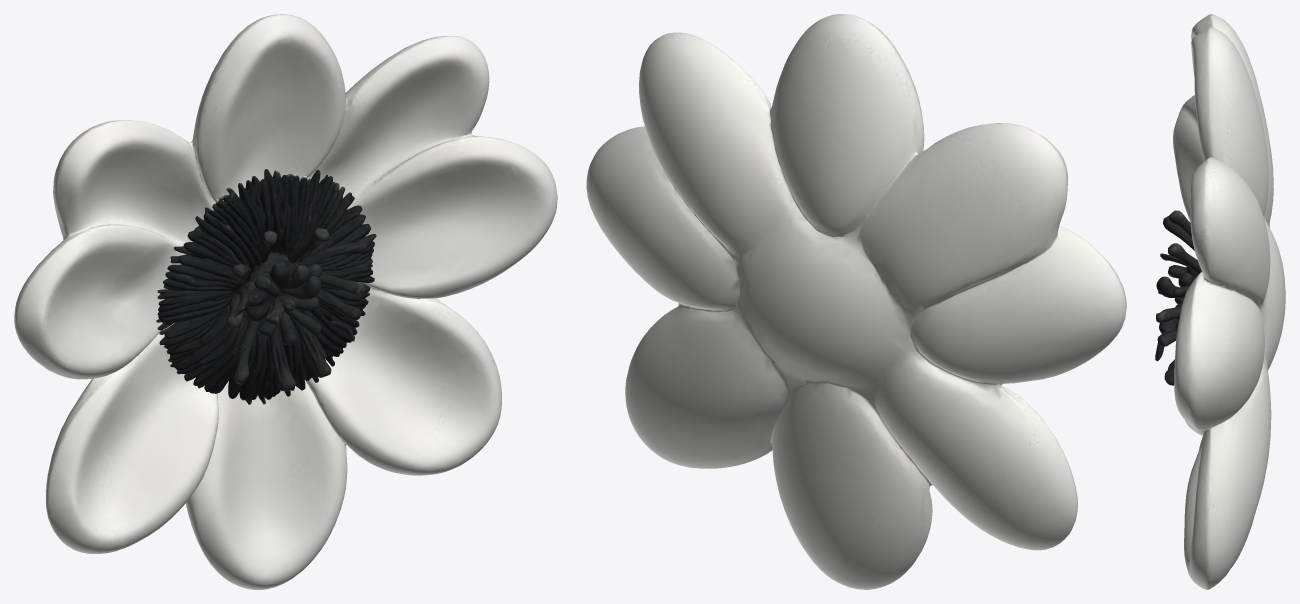
The model's file is anemone_bloom.glb.
3 views of the same model, side by side, from view 1: azimuth 30°, elevation 25°; view 2: azimuth 150°, elevation 25°; view 3: azimuth 270°, elevation 25° (orthographic). The views are drawn at different scales.
Visible parts, largest first — view 1: model; view 2: model; view 3: model.
Boxes of the visible parts, x1,y1,x2,y2 form: model: (14,14,557,589); model: (586,14,1126,589); model: (1155,14,1285,589).
Bounding box in the file's own units: 1.87 × 1.9 × 0.4102.
1 material, 1 textured.
